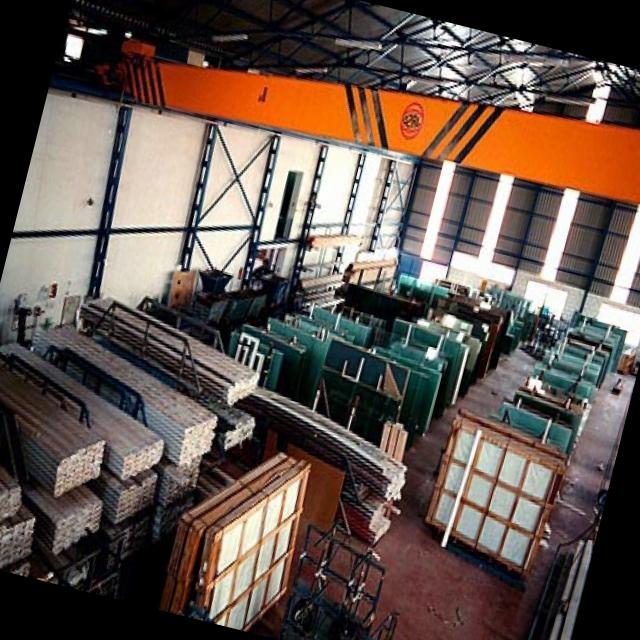boards: (159, 446, 311, 627), (427, 401, 568, 578)
ceiling beam: (64, 0, 640, 125)
floor -X: (0, 283, 633, 640)
girder: (53, 45, 640, 204)
plank: (80, 292, 261, 406)
planks: (31, 319, 221, 466), (0, 337, 162, 477), (0, 360, 104, 495), (0, 464, 21, 522)
wall clock: (0, 98, 415, 372), (392, 157, 640, 368)
